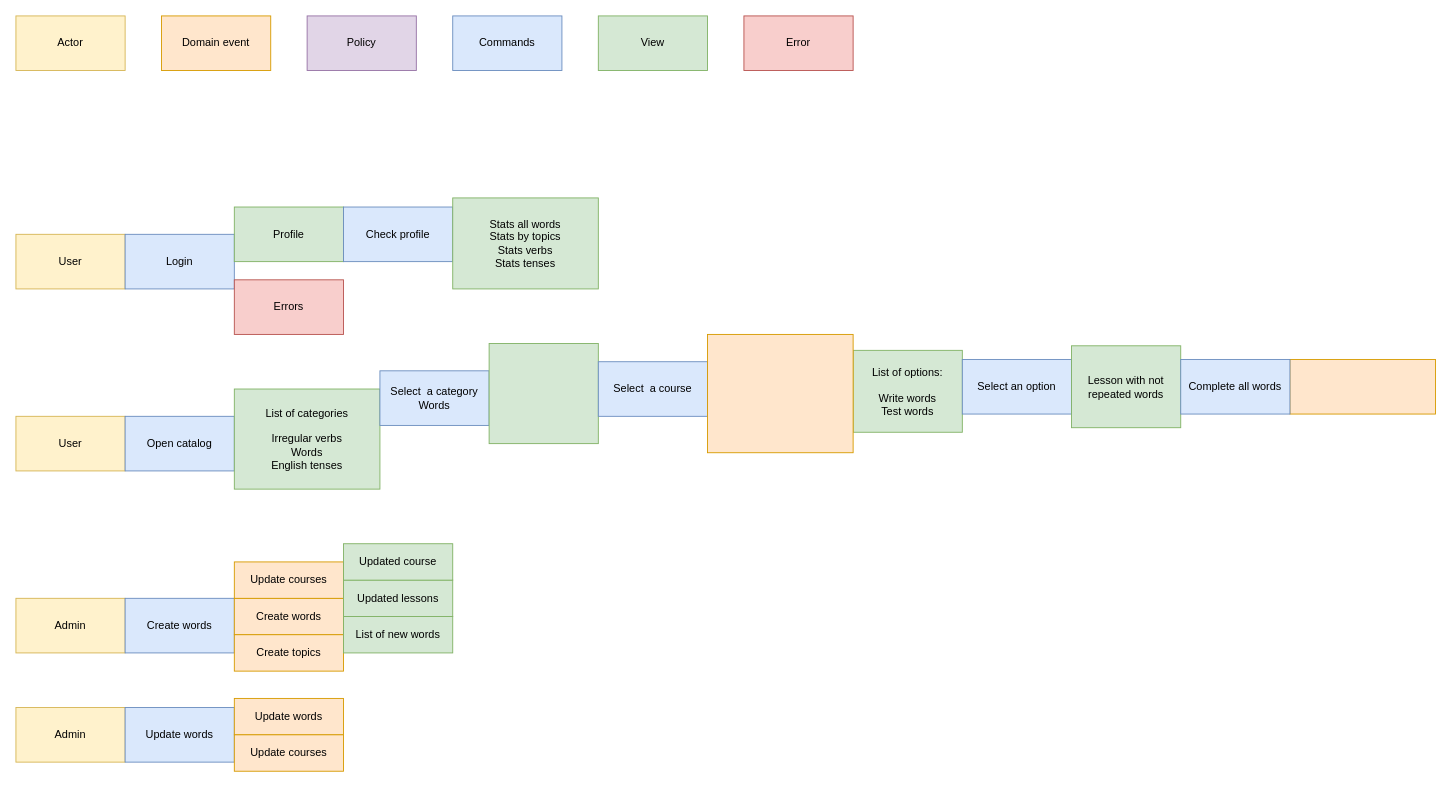
Image size: 1451x787. Some labels were removed from this diagram. The centre of each missing label's shape, as x and y in pixels:
Check a time of topic Create new course for user Update words in the old course: (x=780, y=393)
List o courses All Animals House ...: (x=543, y=393)
Save stats by words and course: (x=1362, y=386)
